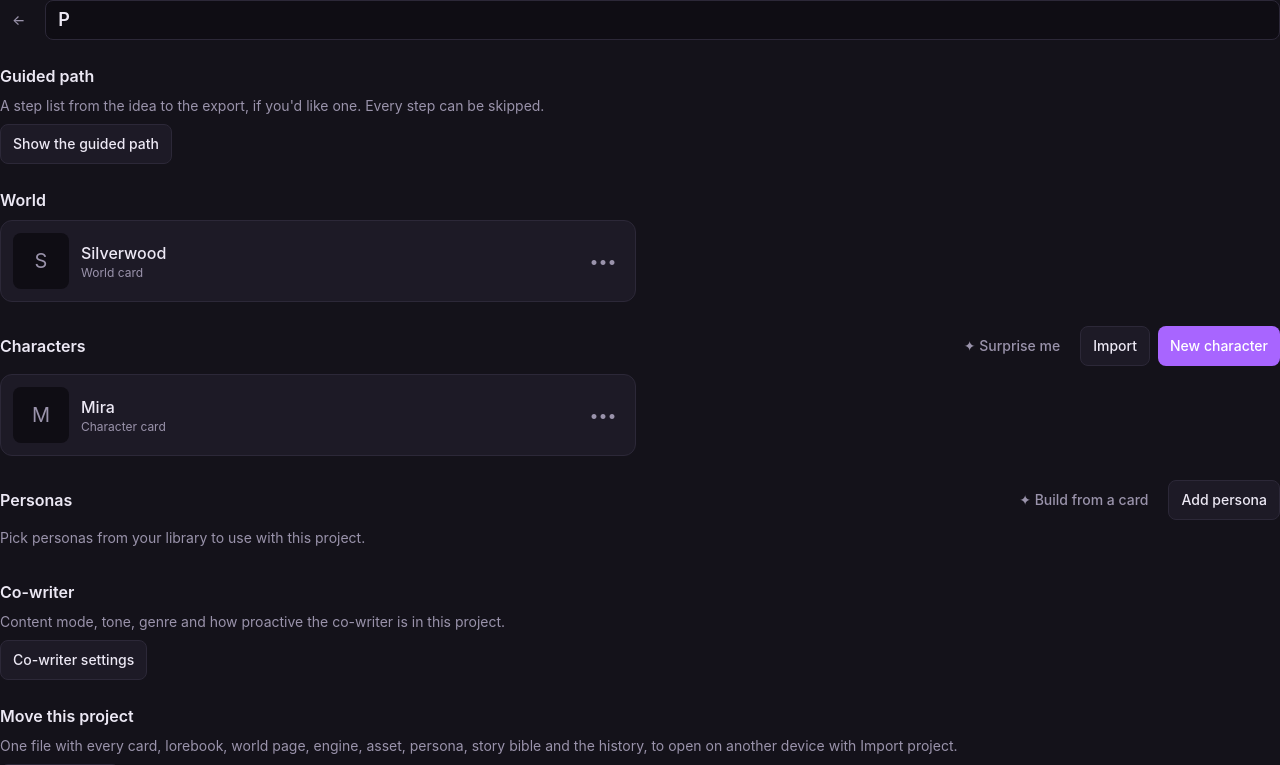
Test case: persona from a card › starts from the world card, focuses on look and capabilities, and links the persona to the project
The width and height of the screenshot is (1280, 765).
Step 1. Click the button "✦ Build from a card" → coordinates (1084, 500), box [1007,480,1160,520]
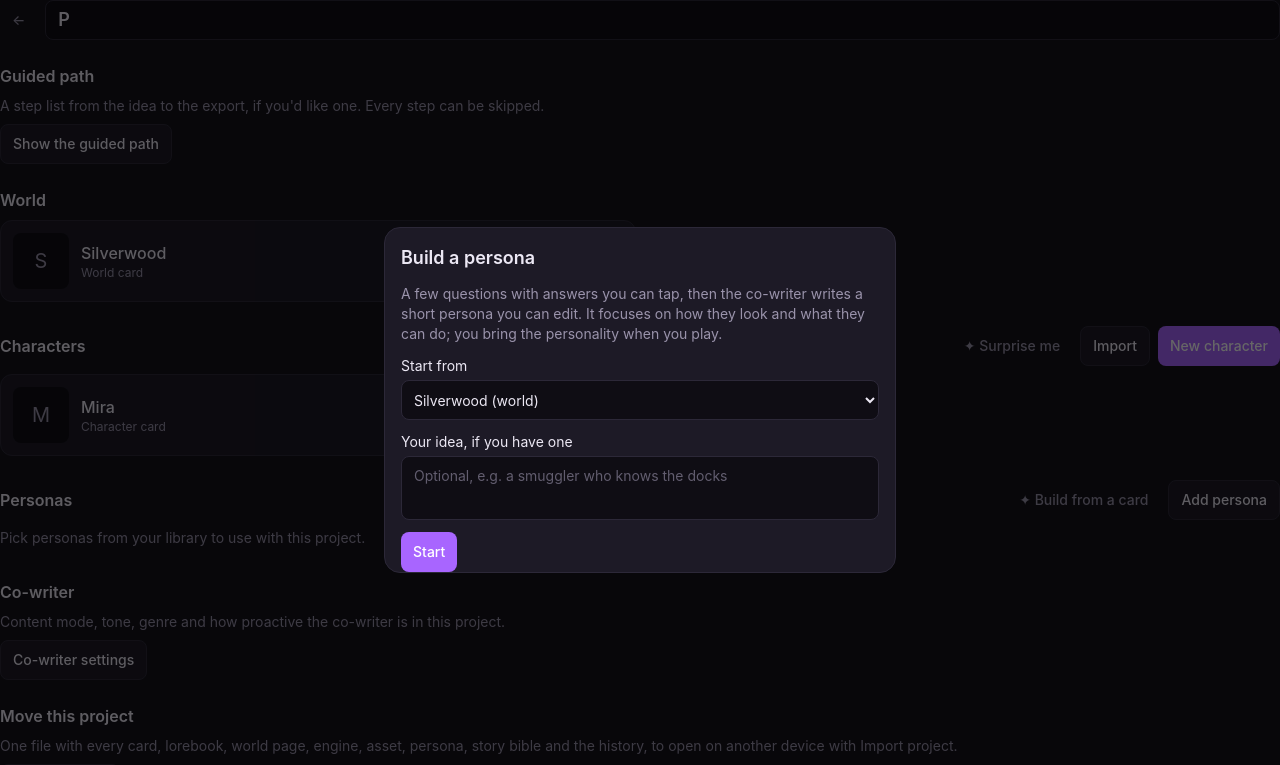
Step 2. Click the button "Start" → coordinates (429, 552), box [401,532,457,572]
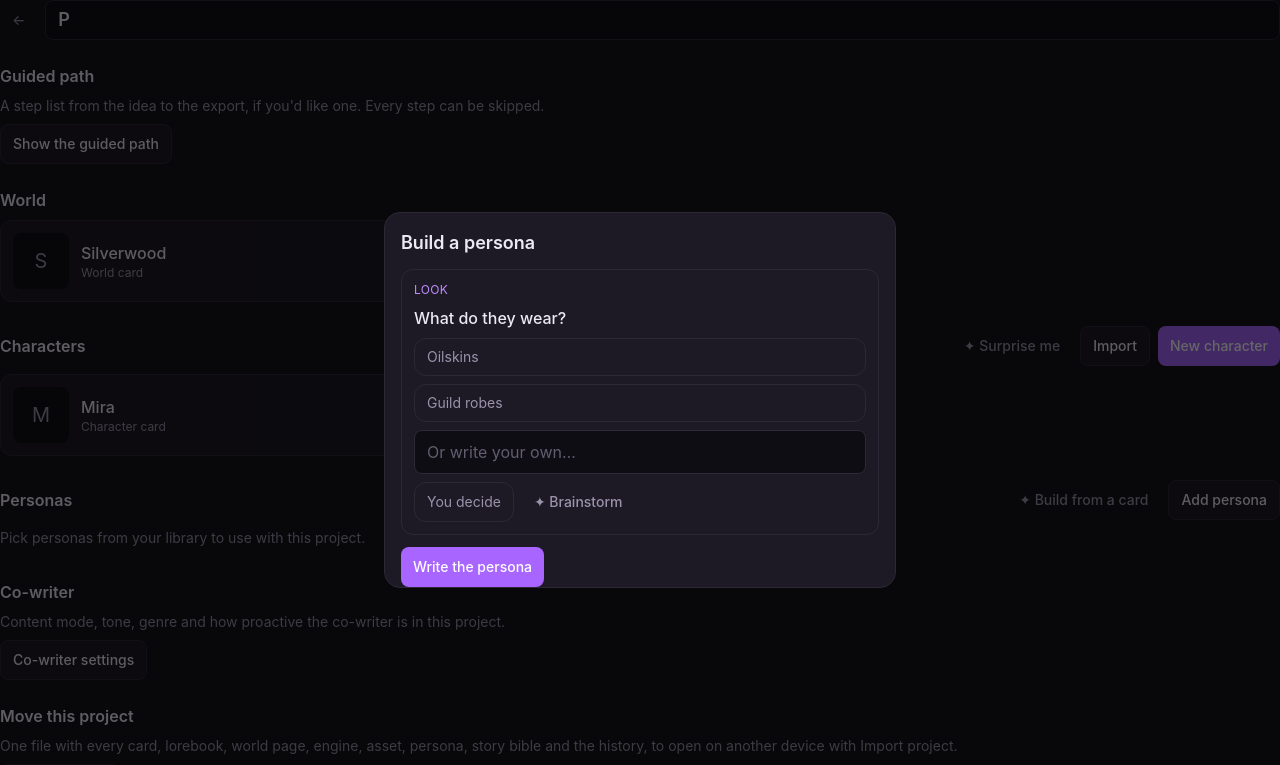
Step 3. Click the button "Oilskins" → coordinates (453, 356), box [414,338,866,376]
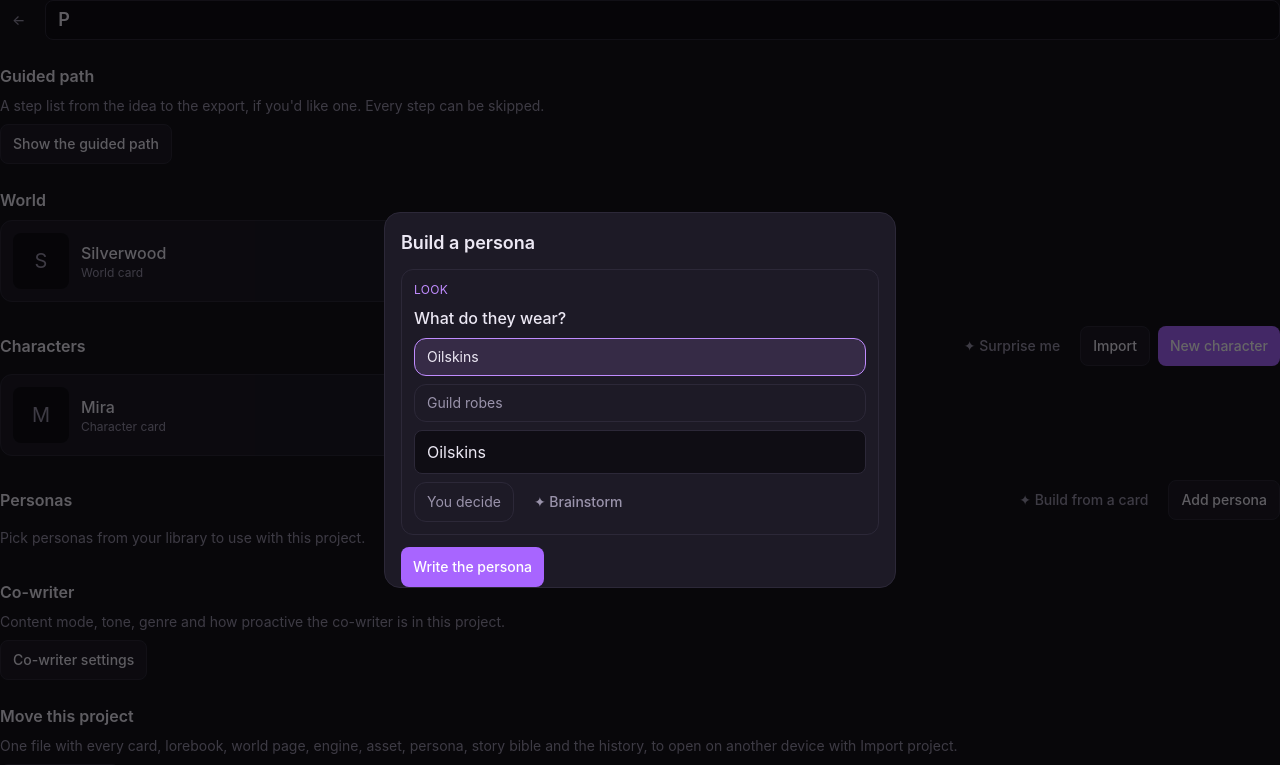
Step 4. Click the button "Write the persona" → coordinates (472, 567), box [401,547,544,587]
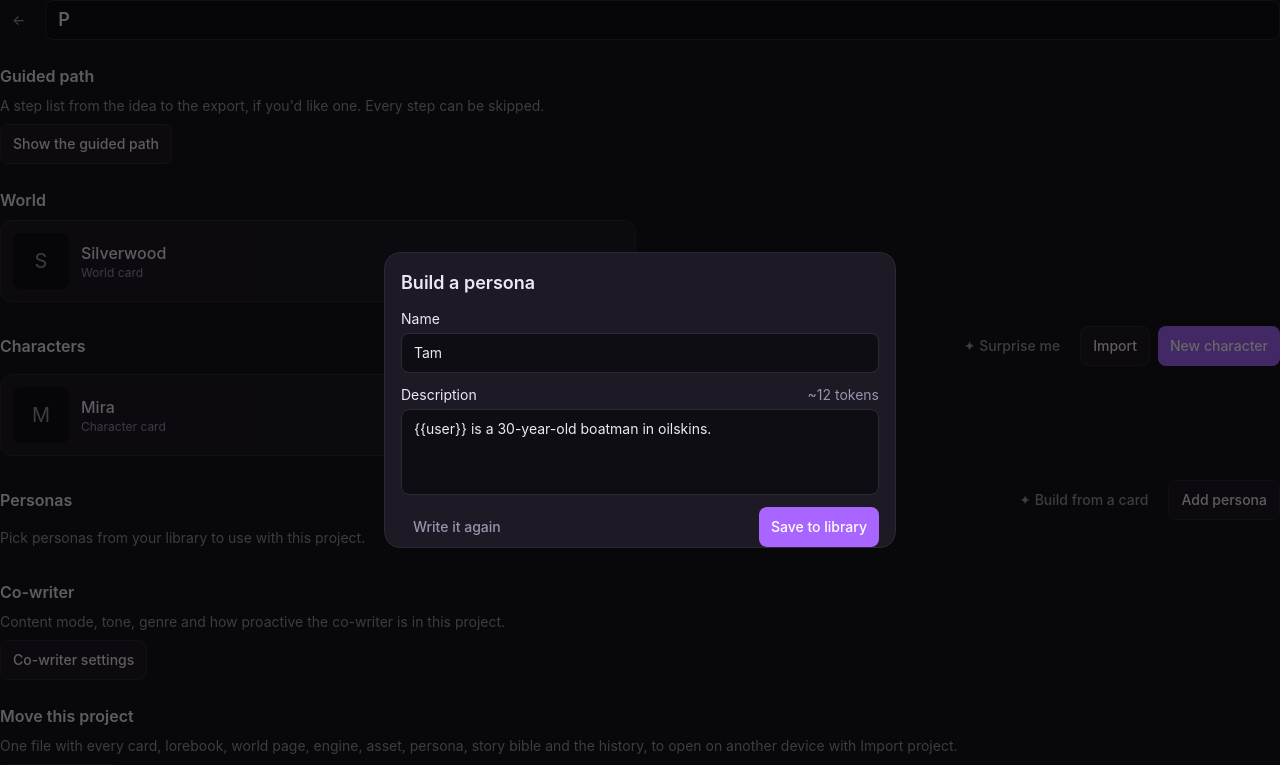
Step 5. Click the button "Save to library" → coordinates (819, 527), box [759,507,879,547]
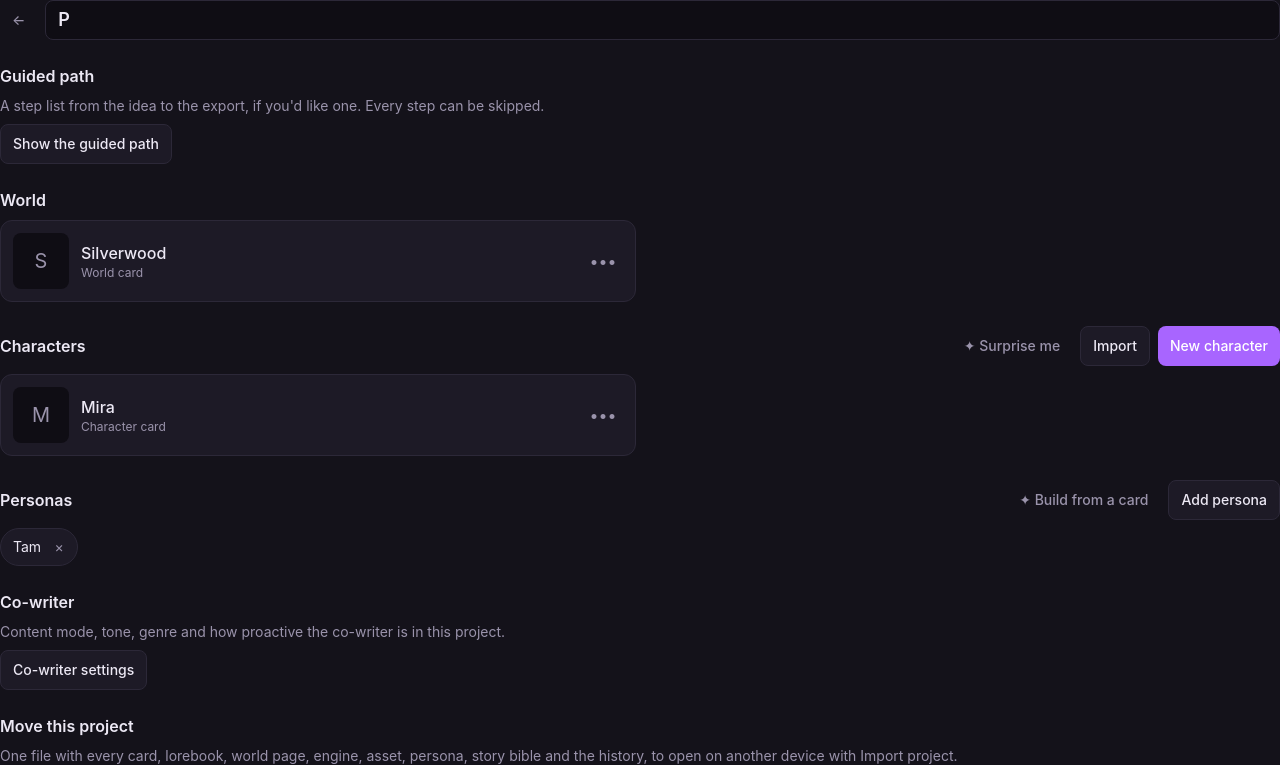
Now the button named "Remove Tam from project" is shown, box [45,533,73,561]
